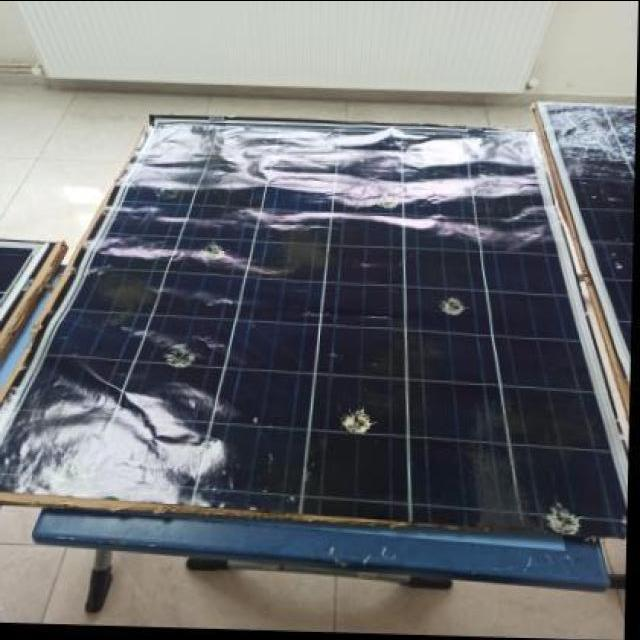soiled: (24, 208, 602, 552)
